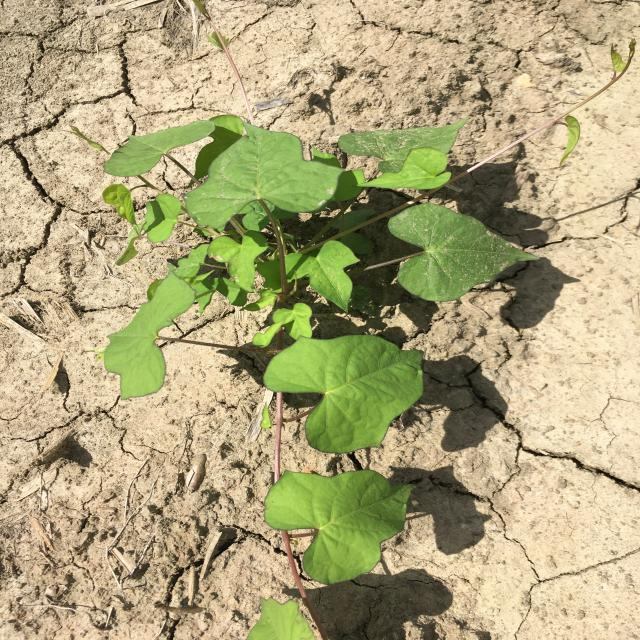MorningGlory: (69, 11, 635, 639)
